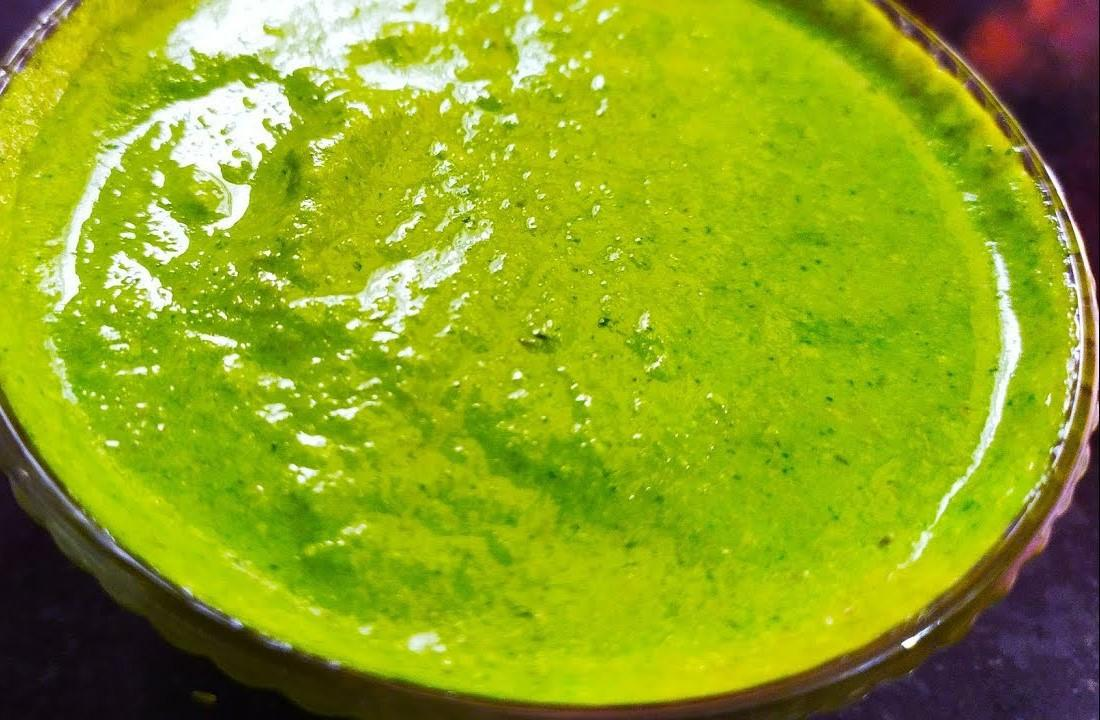GreenChutney: (0, 0, 1079, 707)
